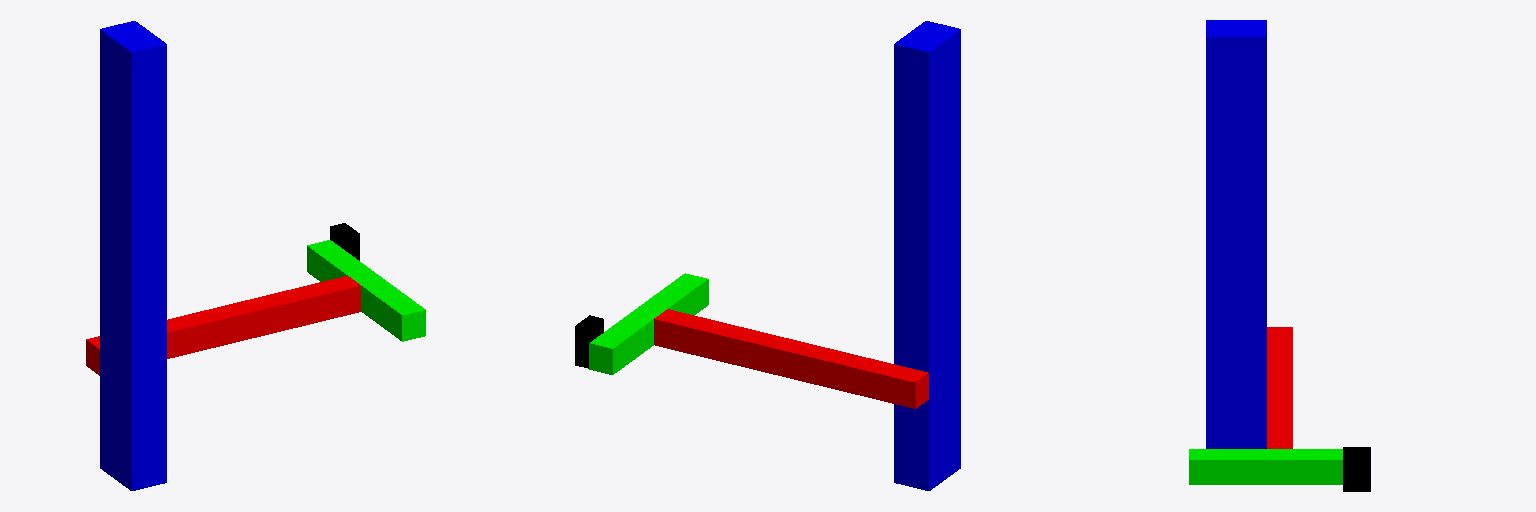
URDF robot description (scanner):
<?xml version="1.0" ?>
<robot name="scanner">
	<material name="z-rail">
		<color rgba="0 0 1 1"/>
	</material>
  
	<material name="y-rail">
		<color rgba="0 1 0 1"/>
	</material>
  
	<material name="x-rail">
		<color rgba="1 0 0 1"/>
	</material>
  
	<material name="laser-box">
		<color rgba="0 0 0 1"/>
	</material>

	<link name="world"/>
	
	<link name="y-link">
		<visual>
			<geometry>
				<box size="0.028 0.19685 0.03"/>
			</geometry>
			<material name="y-rail"/>
		</visual>
		<collision>
			<geometry>
				<box size="0.028 0.19685 0.03"/>
			</geometry>
		</collision>
	</link>

	<link name="x-link">
		<visual>
			<geometry>
				<box size="0.31115 0.028 0.03"/>
			</geometry>
			<material name="x-rail"/>
		</visual>
	</link>

	<link name="z-link">
		<visual>
			<geometry>
				<box size="0.042 0.066 0.498475"/>
			</geometry>
			<material name="z-rail"/>
		</visual>
	</link>


	<link name="laser-box-link">
		<visual>
			<geometry>
				<box size="0.0175 0.031 0.0444"/>
			</geometry>
			<material name="laser-box"/>
		</visual>
	</link>

	<joint name="ground" type="fixed">
		<parent link="world"/>
		<child link="z-link"/>
		<origin xyz="0 0 0.2492375"/>
	</joint>

	<link name="connZ"/>

	<joint name="z-motion" type="prismatic">
		<parent link="z-link"/>
		<child link="connZ"/>
		<axis xyz="0 0 1"/>
		<limit effort="0" lower="0" upper="0.3687" velocity="0.05"/>
		<origin xyz="0.176575 0 -0.1294625"/>
	</joint>

	<joint name="x-motion" type="prismatic">
		<parent link="connZ"/>
		<child link="x-link"/>
		<axis xyz="1 0 0"/>
		<limit effort="0" lower="-0.2921" upper="0" velocity="0.05"/>
		<origin xyz="-0.042 0.047 0"/>
	</joint>

	<joint name="y-motion" type="prismatic">
		<parent link="x-link"/>
		<child link="y-link"/>
		<axis xyz="0 1 0"/>
		<limit effort="0" lower="-0.083425" upper="0.083425" velocity="0.05"/>
		<origin xyz="0.169575 0 0"/>
	</joint>

	<joint name="laser-joint" type="fixed">
		<parent link="y-link"/>
		<child link="laser-box-link"/>
		<origin xyz="0.02275 0.082925 0.008"/>
	</joint>


</robot>

--- Facts derived from the render (not from the file) ---
Views: 3 orthographic renders of the robot side by side, from view 1: azimuth 30°, elevation 25°; view 2: azimuth 150°, elevation 25°; view 3: azimuth 270°, elevation 25°.
Robot: scanner — 6 links, 5 joints (3 prismatic, 2 fixed); root link world; default pose: all joints at 0.
Links seen in each view (by area): view 1: z-link, x-link, y-link, laser-box-link; view 2: z-link, x-link, y-link, laser-box-link; view 3: z-link, y-link, x-link, laser-box-link.
Link boxes in pixels (left/top/right/bottom): z-link: left=100, top=21, right=166, bottom=490; x-link: left=86, top=276, right=360, bottom=375; y-link: left=307, top=240, right=425, bottom=341; laser-box-link: left=330, top=223, right=359, bottom=260; z-link: left=894, top=21, right=960, bottom=490; x-link: left=654, top=309, right=928, bottom=408; y-link: left=589, top=273, right=708, bottom=374; laser-box-link: left=575, top=315, right=603, bottom=368; z-link: left=1206, top=20, right=1266, bottom=448; y-link: left=1189, top=449, right=1342, bottom=484; x-link: left=1267, top=327, right=1292, bottom=448; laser-box-link: left=1343, top=447, right=1370, bottom=491.
Size in the robot's own frame: 0.3566 by 0.1969 by 0.4985 metres.
Geometry: primitives only (box / cylinder / sphere), no mesh files.